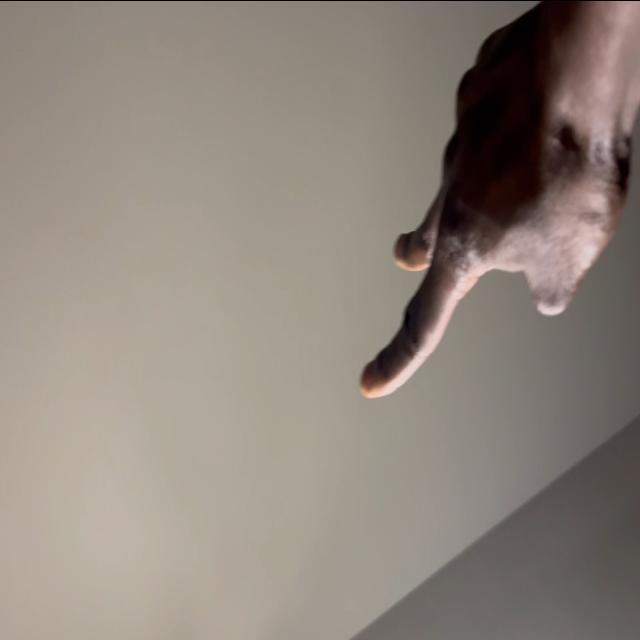Scissors: (357, 3, 635, 401)
